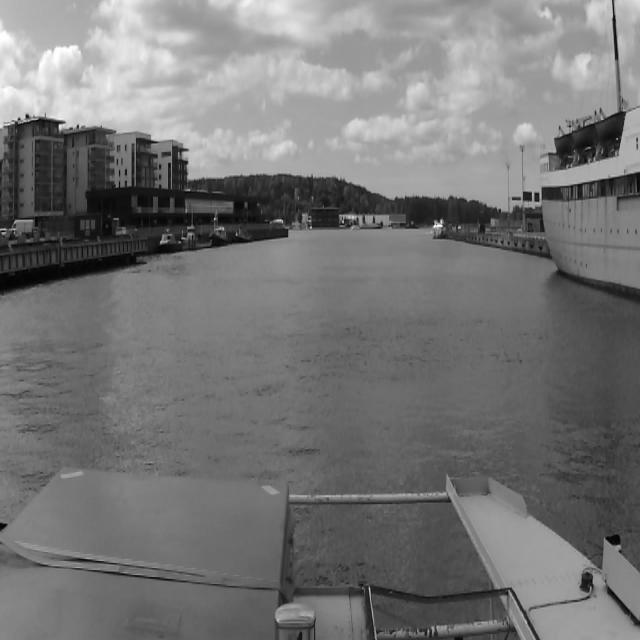ship: (541, 111, 637, 300), (183, 225, 211, 252), (209, 209, 228, 246), (158, 230, 182, 252), (233, 225, 253, 243)
